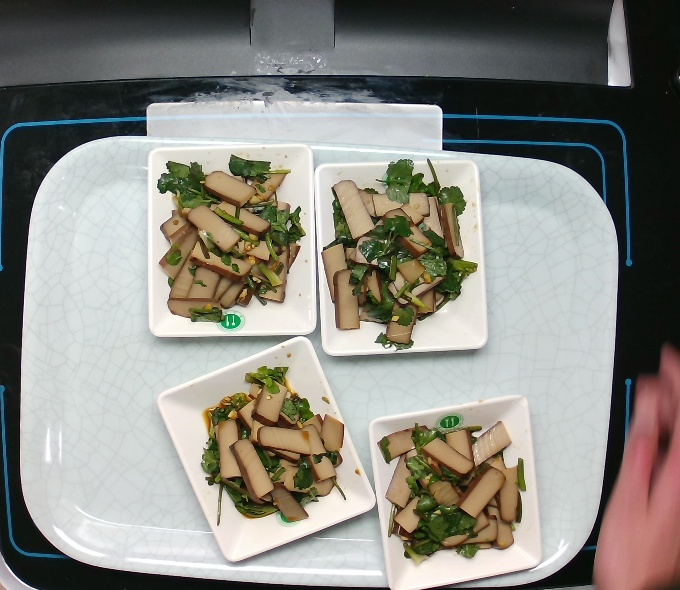wcq-JiDanGan: (144, 142, 305, 339), (320, 166, 480, 361), (187, 361, 351, 533), (363, 402, 530, 568)
